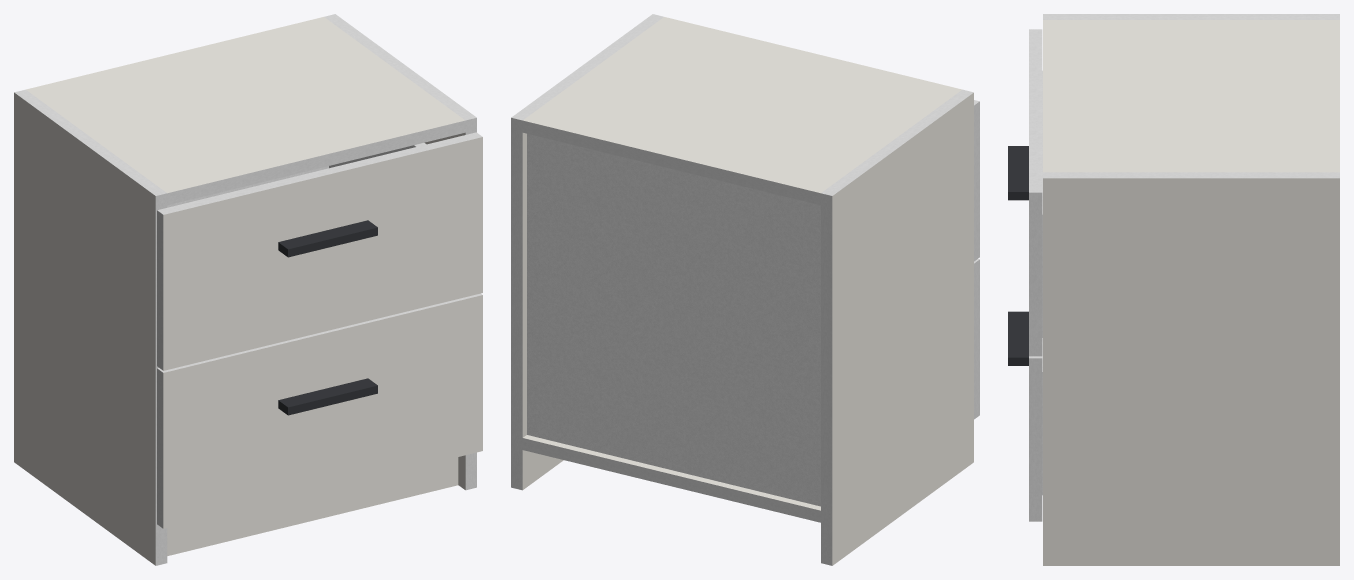
The model's file is LIT-NST-std.glb.
The picture shows the model from 3 angles, left to right: view 1: azimuth 30°, elevation 25°; view 2: azimuth 150°, elevation 25°; view 3: azimuth 270°, elevation 25°; orthographic projection. The views are drawn at different scales.
Visible parts, largest first — view 1: side-l:pbr, d1-front:pbr, d2-front:pbr, top:pbr, plinth:pbr, top:sheet:eyJtIjoibWRmIiwic2lkZSI6ImVkZ2UtbG9uZyIsInNlZWQiOj, pull, d2-front:sheet:eyJtIjoibWRmIiwic2lkZSI6ImVkZ2UtbG9uZyIsInNlZ, side-r:sheet:eyJtIjoibWRmIiwic2lkZSI6ImVkZ2UtZW5kIiwic2VlZCI, side-l:sheet:eyJtIjoibWRmIiwic2lkZSI6ImVkZ2UtZW5kIiwic2VlZCI, side-l:sheet:eyJtIjoibWRmIiwic2lkZSI6ImVkZ2UtbG9uZyIsInNlZWQ, d1-front:sheet:eyJtIjoibWRmIiwic2lkZSI6ImVkZ2UtZW5kIiwic2VlZ (+3 smaller); view 2: back:sheet:eyJtIjoibWRmIiwic2lkZSI6ImZhY2UiLCJzZWVkIjo0LCJ0a, side-l:pbr, top:pbr, side-r:sheet:eyJtIjoibWRmIiwic2lkZSI6ImVkZ2UtbG9uZyIsInNlZWQ, side-l:sheet:eyJtIjoibWRmIiwic2lkZSI6ImVkZ2UtbG9uZyIsInNlZWQ, bottom:sheet:eyJtIjoibWRmIiwic2lkZSI6ImVkZ2UtbG9uZyIsInNlZWQ, top:sheet:eyJtIjoibWRmIiwic2lkZSI6ImVkZ2UtbG9uZyIsInNlZWQiOj, side-r:pbr, side-l:sheet:eyJtIjoibWRmIiwic2lkZSI6ImVkZ2UtZW5kIiwic2VlZCI, side-r:sheet:eyJtIjoibWRmIiwic2lkZSI6ImVkZ2UtZW5kIiwic2VlZCI, bottom:pbr, d1-front:sheet:eyJtIjoibWRmIiwic2lkZSI6ImVkZ2UtZW5kIiwic2VlZ (+1 smaller); view 3: side-r:pbr, top:pbr, pull, d2-front:sheet:eyJtIjoibWRmIiwic2lkZSI6ImVkZ2UtZW5kIiwic2VlZ, d1-front:sheet:eyJtIjoibWRmIiwic2lkZSI6ImVkZ2UtZW5kIiwic2VlZ, d2-front:sheet:eyJtIjoibWRmIiwic2lkZSI6ImVkZ2UtbG9uZyIsInNlZ, side-r:sheet:eyJtIjoibWRmIiwic2lkZSI6ImVkZ2UtZW5kIiwic2VlZCI, side-l:sheet:eyJtIjoibWRmIiwic2lkZSI6ImVkZ2UtZW5kIiwic2VlZCI.
Boxes of the visible parts, box(x1,y1,x2,y2) form: side-l:pbr: box(14, 92, 155, 565); d1-front:pbr: box(163, 295, 482, 528); d2-front:pbr: box(163, 137, 482, 370); top:pbr: box(26, 17, 465, 193); plinth:pbr: box(167, 457, 458, 555); top:sheet:eyJtIjoibWRmIiwic2lkZSI6ImVkZ2UtbG9uZyIsInNlZWQiOj: box(167, 120, 465, 205); pull: box(278, 220, 377, 415); d2-front:sheet:eyJtIjoibWRmIiwic2lkZSI6ImVkZ2UtbG9uZyIsInNlZ: box(157, 132, 482, 214); side-r:sheet:eyJtIjoibWRmIiwic2lkZSI6ImVkZ2UtZW5kIiwic2VlZCI: box(324, 14, 476, 120); side-l:sheet:eyJtIjoibWRmIiwic2lkZSI6ImVkZ2UtZW5kIiwic2VlZCI: box(14, 89, 166, 195); side-l:sheet:eyJtIjoibWRmIiwic2lkZSI6ImVkZ2UtbG9uZyIsInNlZWQ: box(155, 193, 167, 565); d1-front:sheet:eyJtIjoibWRmIiwic2lkZSI6ImVkZ2UtZW5kIiwic2VlZ: box(157, 368, 163, 528); back:sheet:eyJtIjoibWRmIiwic2lkZSI6ImZhY2UiLCJzZWVkIjo0LCJ0a: box(527, 133, 820, 506); side-l:pbr: box(832, 93, 973, 565); top:pbr: box(523, 17, 962, 193); side-r:sheet:eyJtIjoibWRmIiwic2lkZSI6ImVkZ2UtbG9uZyIsInNlZWQ: box(511, 117, 522, 490); side-l:sheet:eyJtIjoibWRmIiwic2lkZSI6ImVkZ2UtbG9uZyIsInNlZWQ: box(821, 193, 832, 565); bottom:sheet:eyJtIjoibWRmIiwic2lkZSI6ImVkZ2UtbG9uZyIsInNlZWQ: box(522, 438, 820, 522); top:sheet:eyJtIjoibWRmIiwic2lkZSI6ImVkZ2UtbG9uZyIsInNlZWQiOj: box(522, 120, 820, 205); side-r:pbr: box(522, 133, 563, 489); side-l:sheet:eyJtIjoibWRmIiwic2lkZSI6ImVkZ2UtZW5kIiwic2VlZCI: box(821, 89, 973, 195); side-r:sheet:eyJtIjoibWRmIiwic2lkZSI6ImVkZ2UtZW5kIiwic2VlZCI: box(511, 14, 663, 120); bottom:pbr: box(523, 435, 820, 510); d1-front:sheet:eyJtIjoibWRmIiwic2lkZSI6ImVkZ2UtZW5kIiwic2VlZ: box(974, 259, 979, 419); side-r:pbr: box(1043, 178, 1339, 565); top:pbr: box(1043, 20, 1339, 172); pull: box(1008, 146, 1028, 365); d2-front:sheet:eyJtIjoibWRmIiwic2lkZSI6ImVkZ2UtZW5kIiwic2VlZ: box(1029, 192, 1042, 356); d1-front:sheet:eyJtIjoibWRmIiwic2lkZSI6ImVkZ2UtZW5kIiwic2VlZ: box(1029, 358, 1042, 521); d2-front:sheet:eyJtIjoibWRmIiwic2lkZSI6ImVkZ2UtbG9uZyIsInNlZ: box(1029, 29, 1042, 192); side-r:sheet:eyJtIjoibWRmIiwic2lkZSI6ImVkZ2UtZW5kIiwic2VlZCI: box(1043, 172, 1339, 178); side-l:sheet:eyJtIjoibWRmIiwic2lkZSI6ImVkZ2UtZW5kIiwic2VlZCI: box(1043, 14, 1339, 19).
Bounding box in the file's own units: 0.5 × 0.55 × 0.4267.
Materials: 55 (47 with a texture image).
